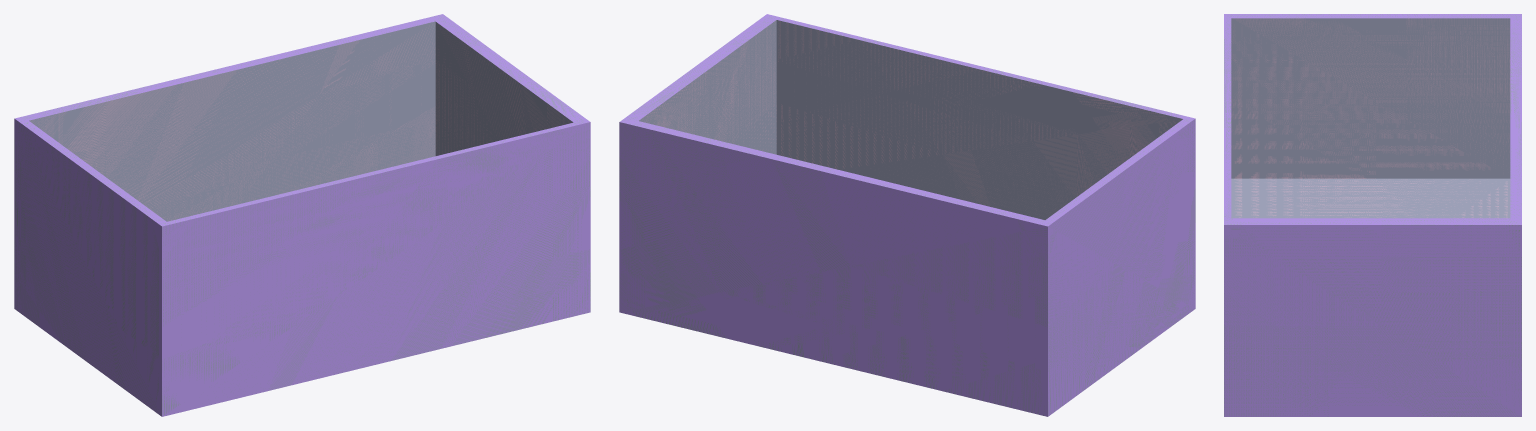
Rendered from abox.dae.
3 renders of one model, left to right at view 1: azimuth 30°, elevation 25°; view 2: azimuth 150°, elevation 25°; view 3: azimuth 270°, elevation 25°, orthographic.
Visible parts, largest first — view 1: SketchUp (×2); view 2: SketchUp (×2); view 3: SketchUp (×2).
Part boxes in pixels (left/top/right/bottom): SketchUp (×2): left=14, top=14, right=590, bottom=416; SketchUp (×2): left=619, top=14, right=1195, bottom=416; SketchUp (×2): left=1224, top=14, right=1521, bottom=416.
Size of the model in its own units: 1196 by 713 by 508.
